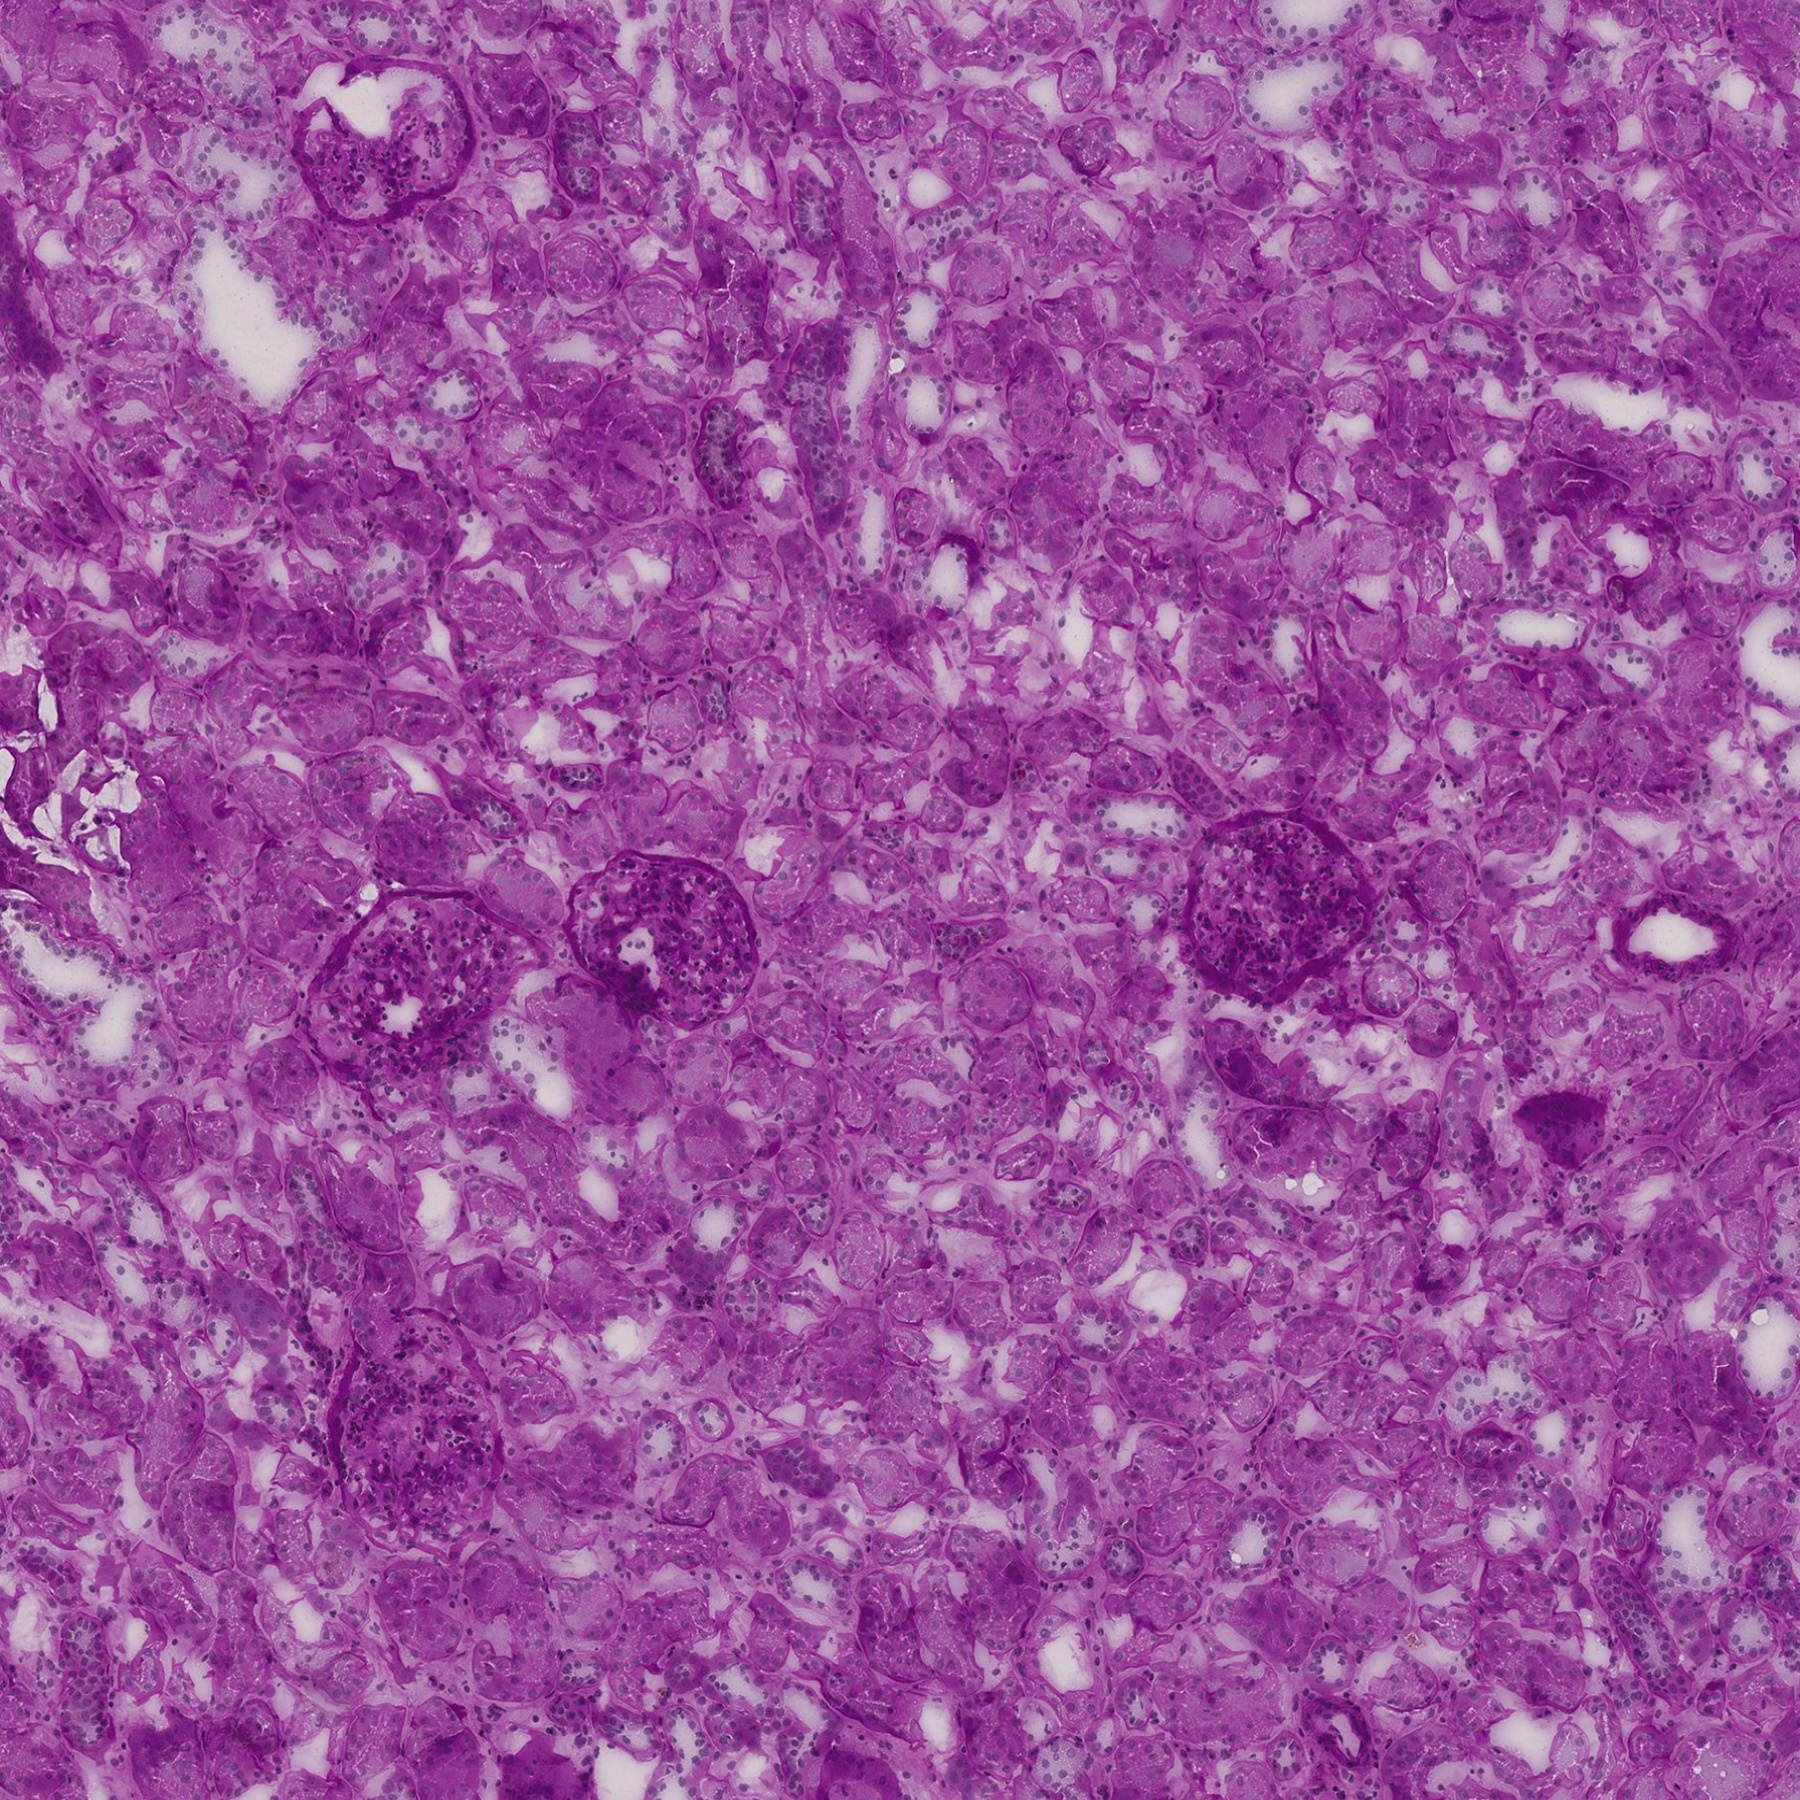Glomeruli: (297, 884, 546, 1081), (328, 1309, 504, 1559), (1185, 809, 1380, 1005), (569, 852, 760, 1030), (292, 59, 478, 226)
